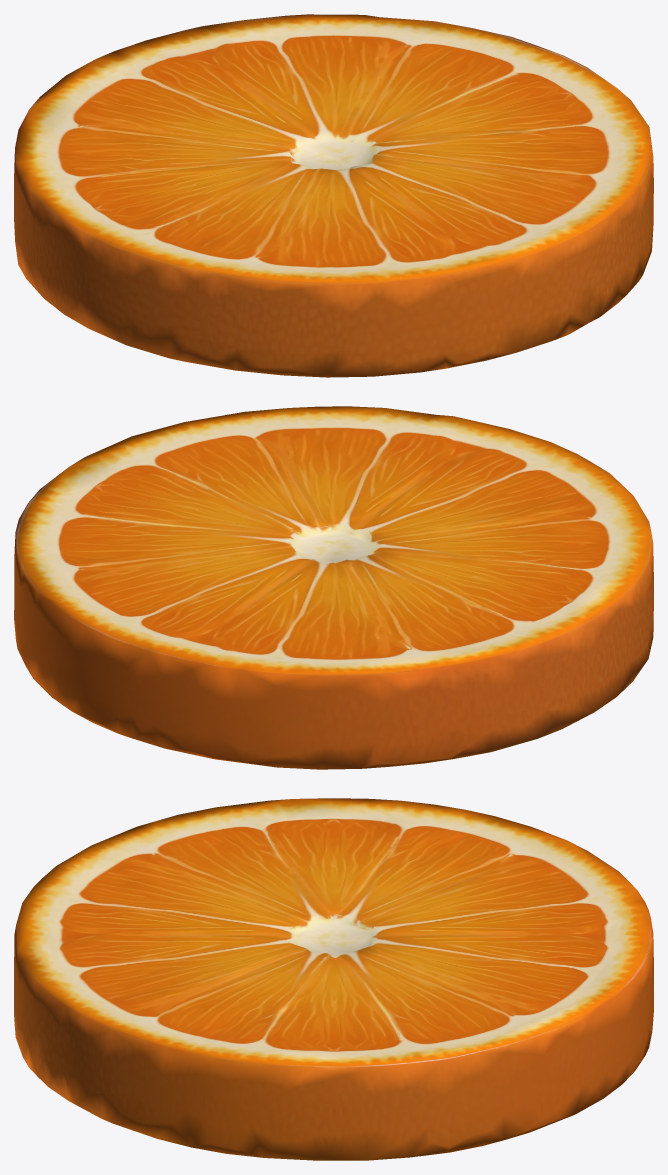
The model's file is orange (1).glb.
3 renders of one model, top to bottom at view 1: azimuth 30°, elevation 25°; view 2: azimuth 150°, elevation 25°; view 3: azimuth 270°, elevation 25°, orthographic.
Visible parts, largest first — view 1: Mesh10; view 2: Mesh10; view 3: Mesh10.
Boxes of the visible parts, x1=… form: Mesh10: x1=14, y1=14, x2=653, y2=377; Mesh10: x1=14, y1=406, x2=653, y2=769; Mesh10: x1=14, y1=798, x2=653, y2=1160.
Bounding box in the file's own units: 1.91 × 0.3125 × 1.91.
Materials: 1 (1 with a texture image).
